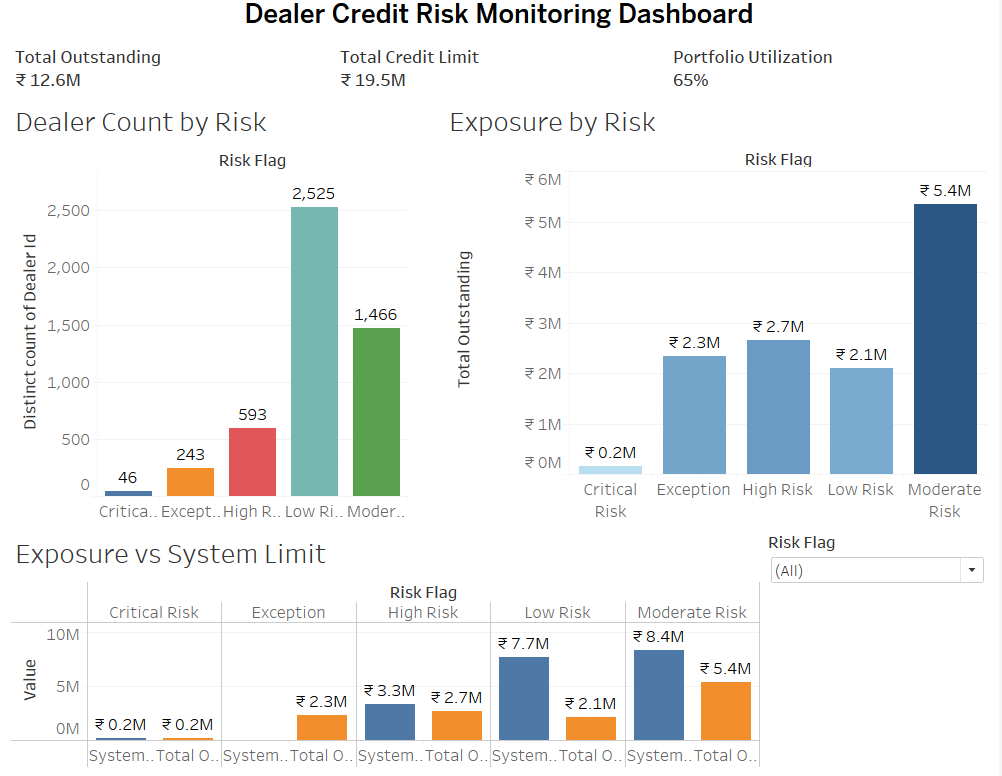

The page's visual inventory and layout, read from the dashboard file:
{"tool":"tableau","page":{"name":"Dealer Credit Risk Monitoring","canvas":[1000,800],"ordinal":0},"visuals":[{"type":"text","box":[8,8,984,53]},{"type":"worksheet","title":"KPI - Total Outstanding","mark":"Text","box":[8,61,325,54]},{"type":"worksheet","title":"KPI - Total Credit Limit","mark":"Text","box":[333,61,333,54]},{"type":"worksheet","title":"KPI - Utilization","mark":"Automatic","box":[666,61,294,54]},{"type":"worksheet","title":"Dealer Count by Risk","mark":"Automatic","rows":["dealer_id"],"cols":["Risk_Flag"],"box":[8,115,434,432]},{"type":"worksheet","title":"Exposure by Risk","mark":"Automatic","rows":["Total_Outstanding"],"cols":["Risk_Flag"],"box":[442,115,550,432]},{"type":"worksheet","title":"Exposure vs System Limit","mark":"Automatic","cols":["Risk_Flag"],"box":[8,547,757,245]},{"type":"filter","title":"Exposure by Risk","param":"[federated.1wdoazm083efc518cjirk0sbxvoz].[none:Risk_Flag:nk]","box":[765,547,227,245]}]}

Visuals, with their boxes on the page's 1000x800 design canvas (x1, y1, x2, y2). These are canvas units, not pixel positions in the 1002x776 screenshot, which may show the page scaled, cropped or inside an application window:
text: left=8, top=8, right=992, bottom=61
"KPI - Total Outstanding" worksheet (Text marks): left=8, top=61, right=333, bottom=115
"KPI - Total Credit Limit" worksheet (Text marks): left=333, top=61, right=666, bottom=115
"KPI - Utilization" worksheet: left=666, top=61, right=960, bottom=115
"Dealer Count by Risk" worksheet: left=8, top=115, right=442, bottom=547
"Exposure by Risk" worksheet: left=442, top=115, right=992, bottom=547
"Exposure vs System Limit" worksheet: left=8, top=547, right=765, bottom=792
"Exposure by Risk" filter: left=765, top=547, right=992, bottom=792
